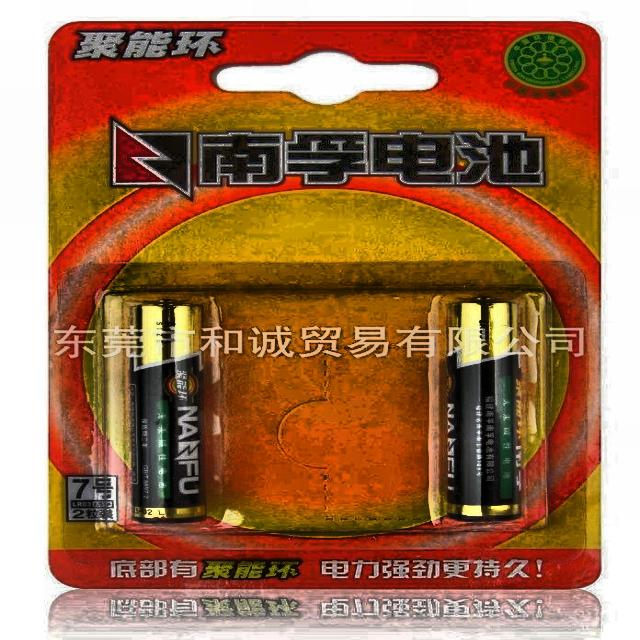Non-Valuable Waste - Batteries: (444, 302, 535, 519), (129, 304, 206, 521)
